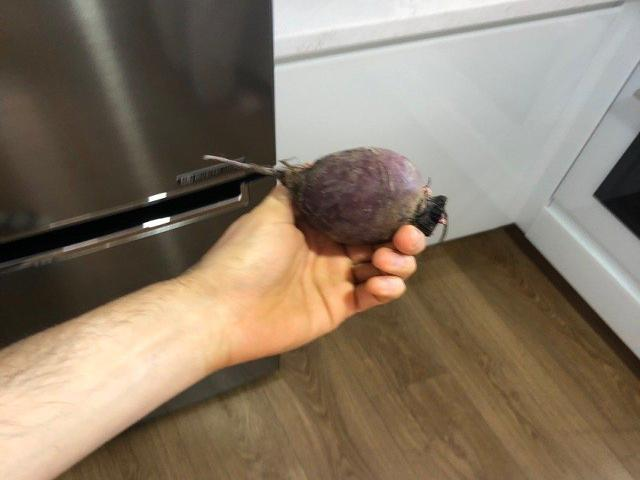beet: (204, 147, 449, 244)
